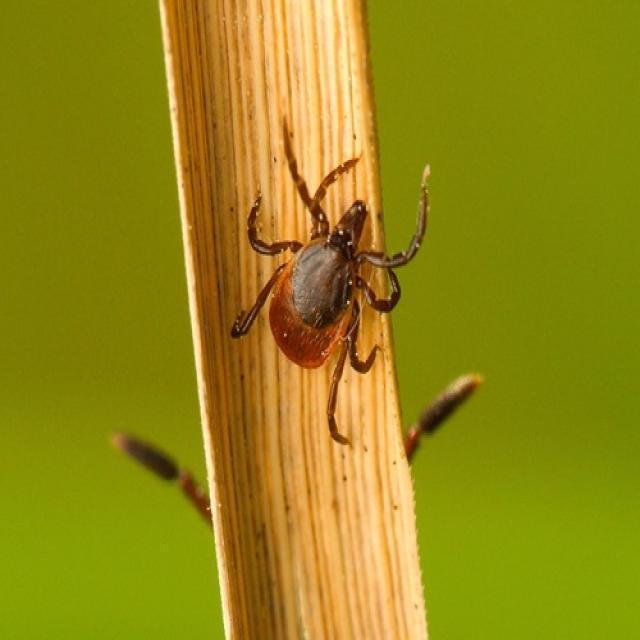Ixodes Ricinus-F-Fed: (230, 136, 430, 447)
